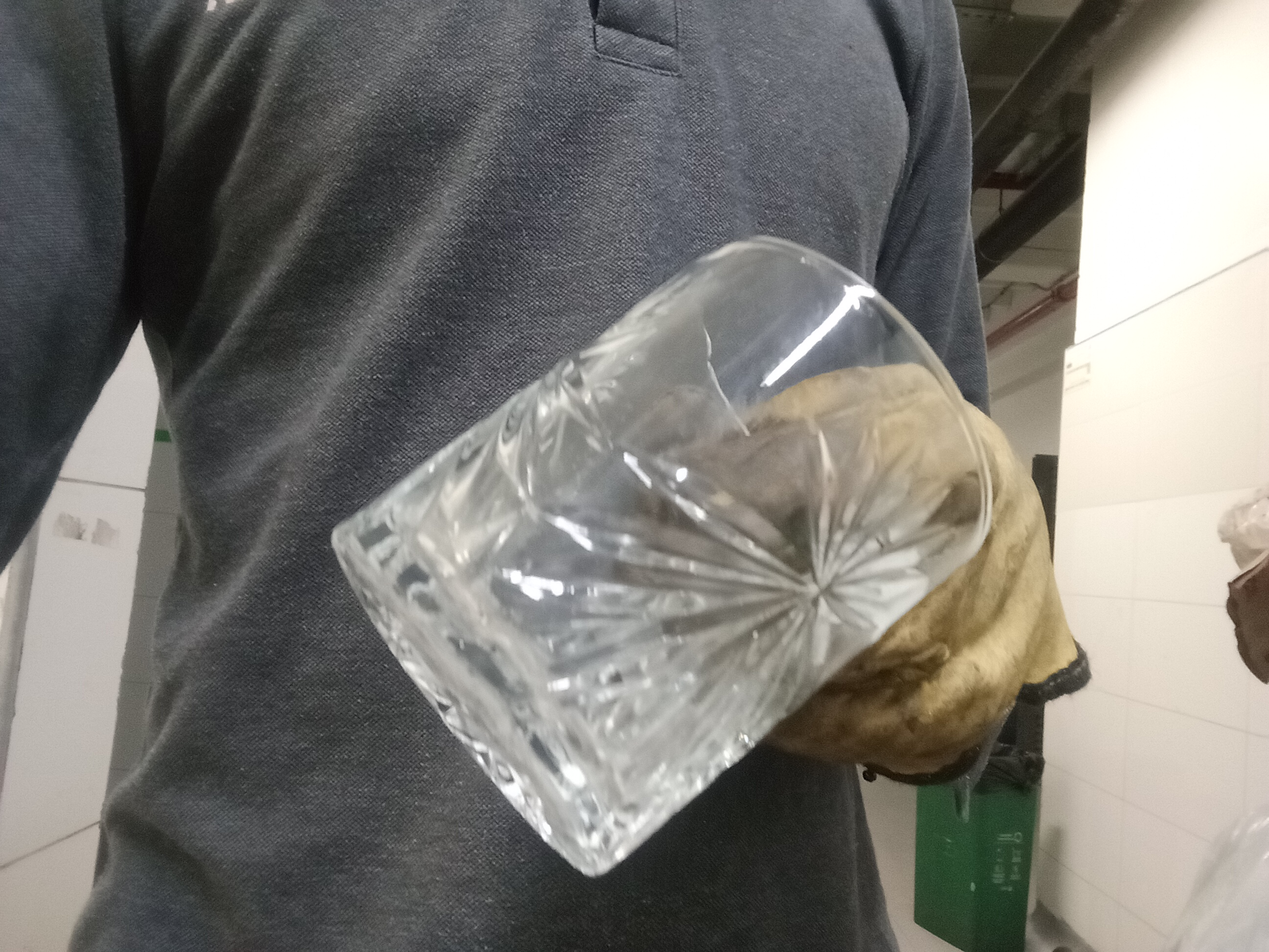Vidrio: (333, 235, 994, 879)
